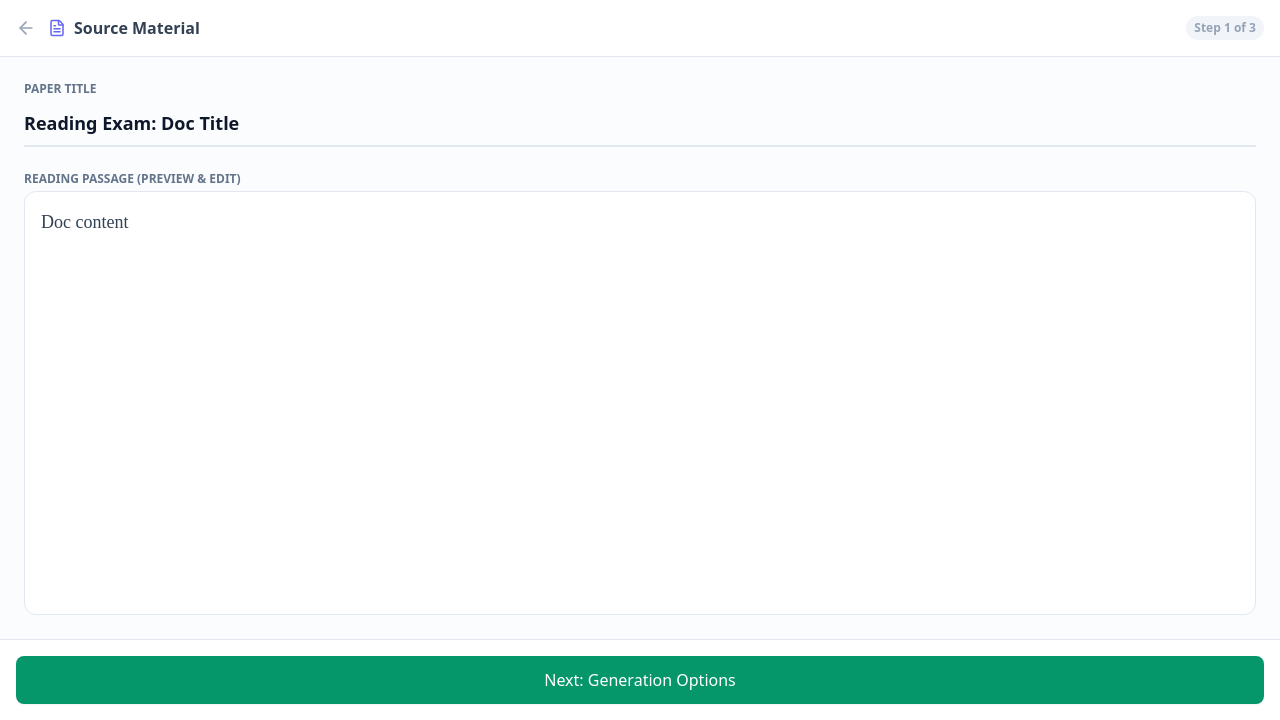
Teacher create paper › handles JSON correct_answer during generation
The width and height of the screenshot is (1280, 720).
Expected: the field showing "Reading Exam: Doc Title" is shown, [24,101,1256,147]
Click the button "Next: Generation Options" at (640, 680), box [16,656,1264,704]
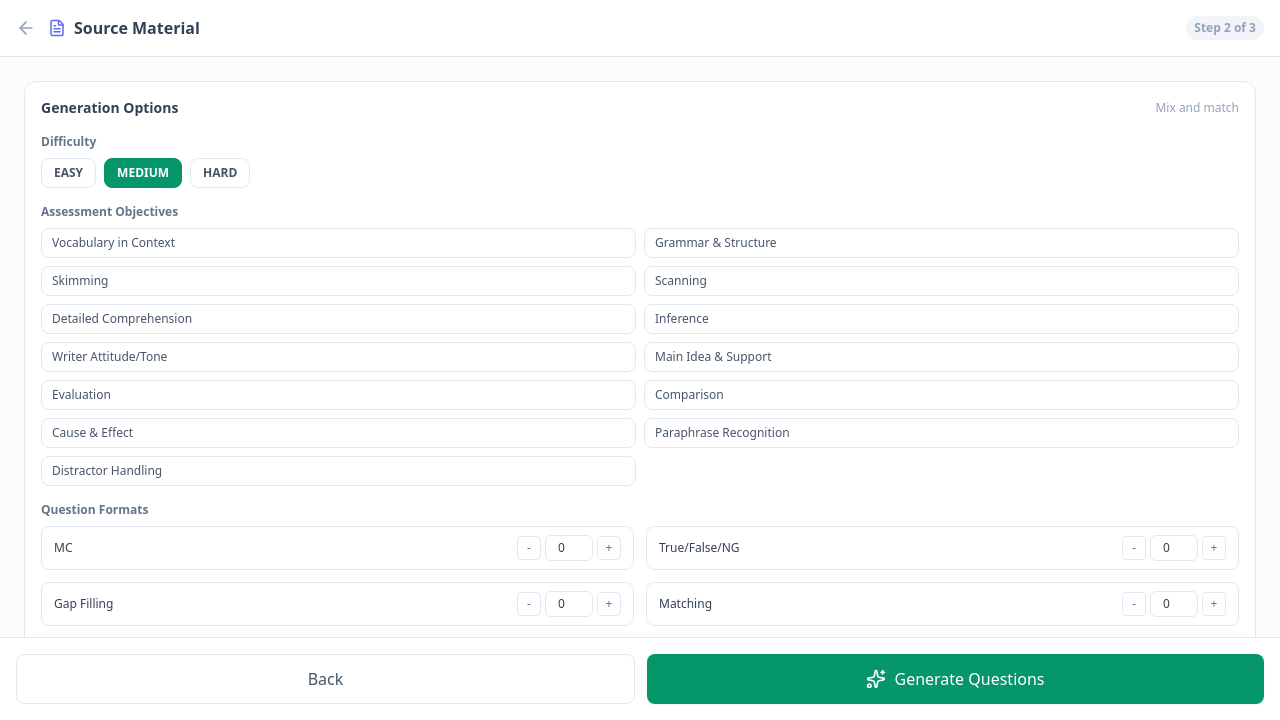
Click the button "Vocabulary in Context" at (113, 242), box [41,228,636,258]
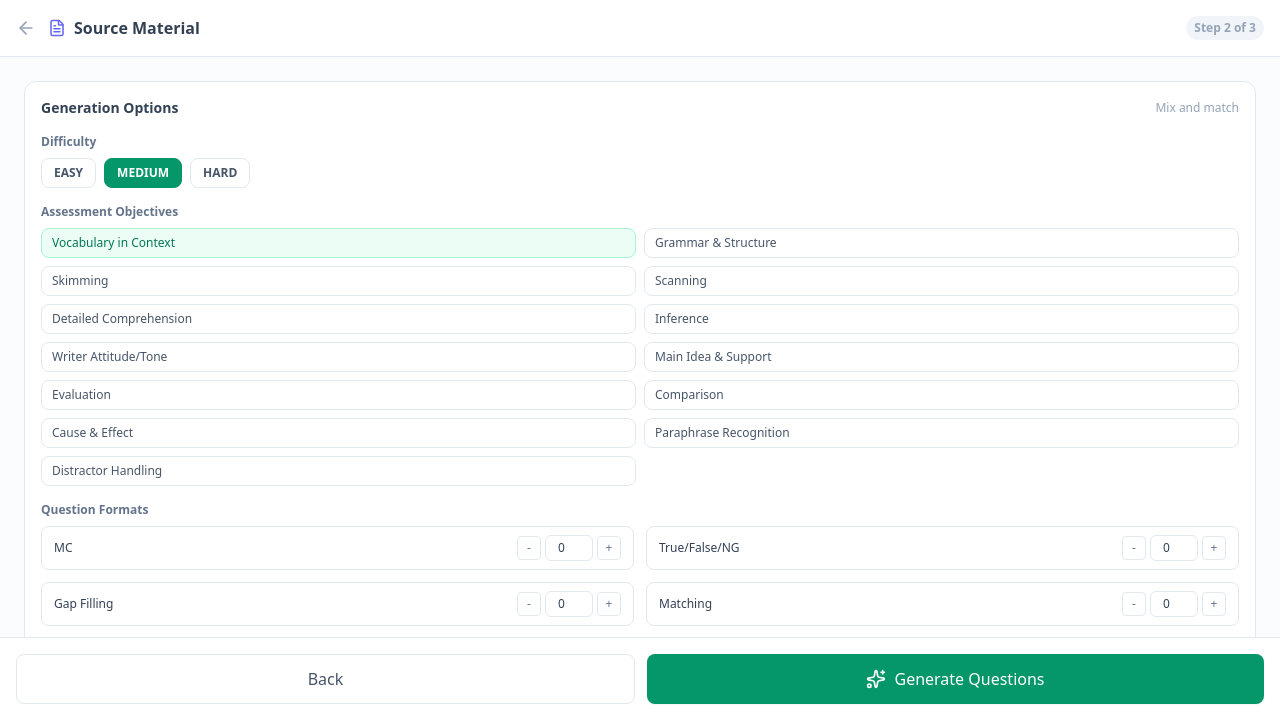
Click the button "Generate Questions" at (956, 679), box [647,654,1264,704]
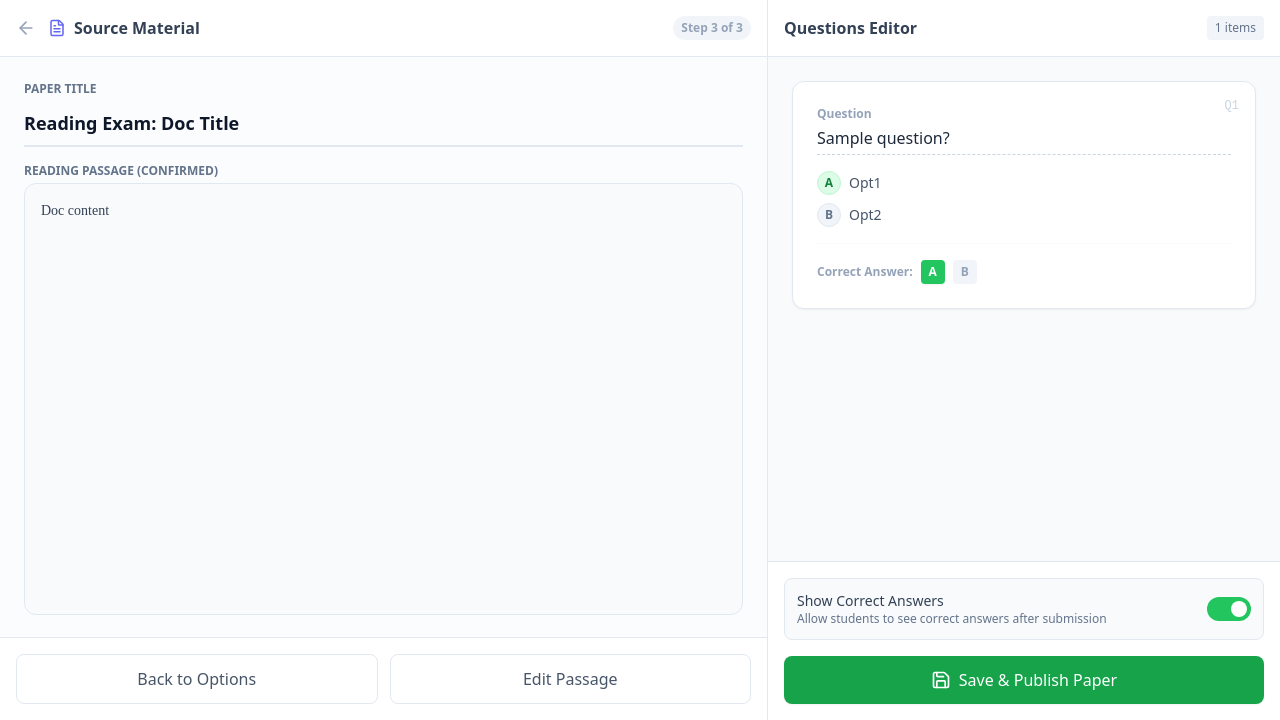
Result: the heading "Questions Editor" is shown at [784,16,917,40]
Result: the 2nd field showing "Sample question?" is shown at [817,126,1231,155]
